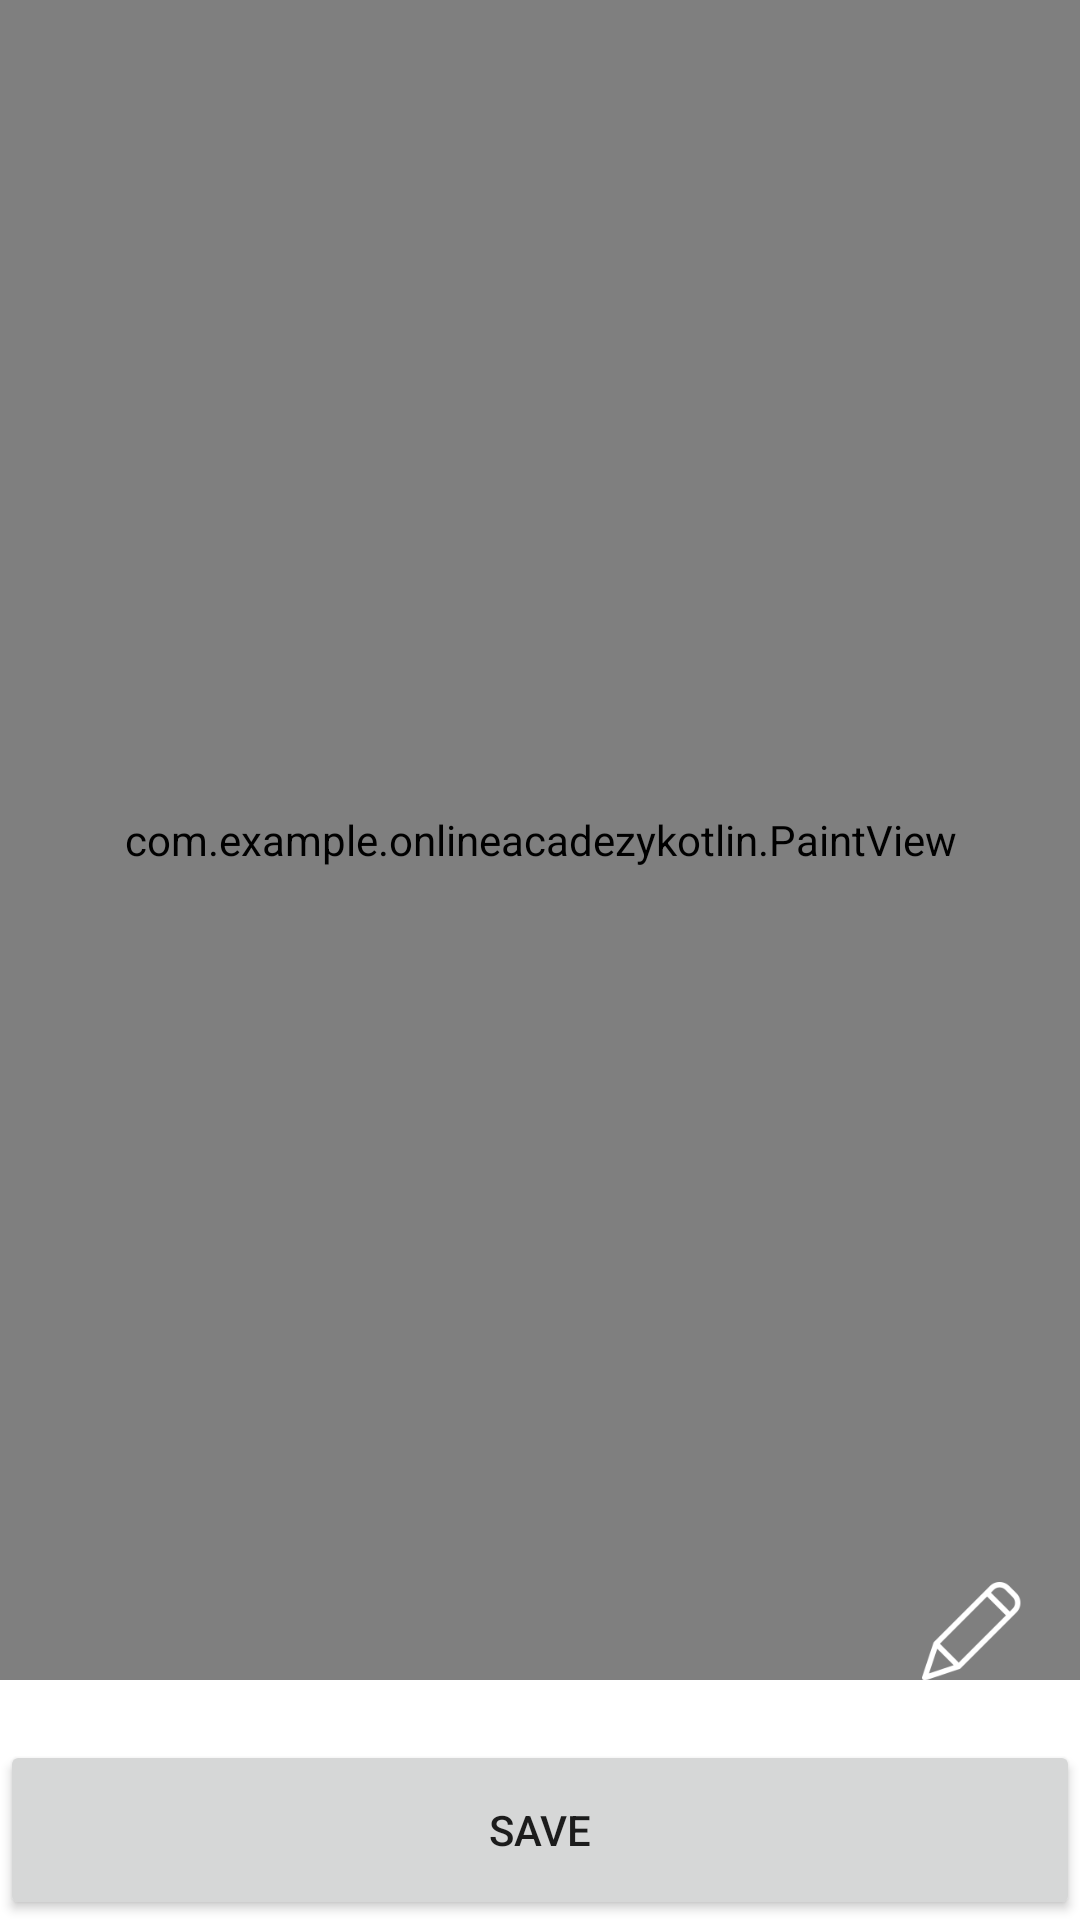

Screen size 1080 × 1920. Icon name, then its center in pixels as (x=x, y=y):
pen: (x=974, y=1634)
